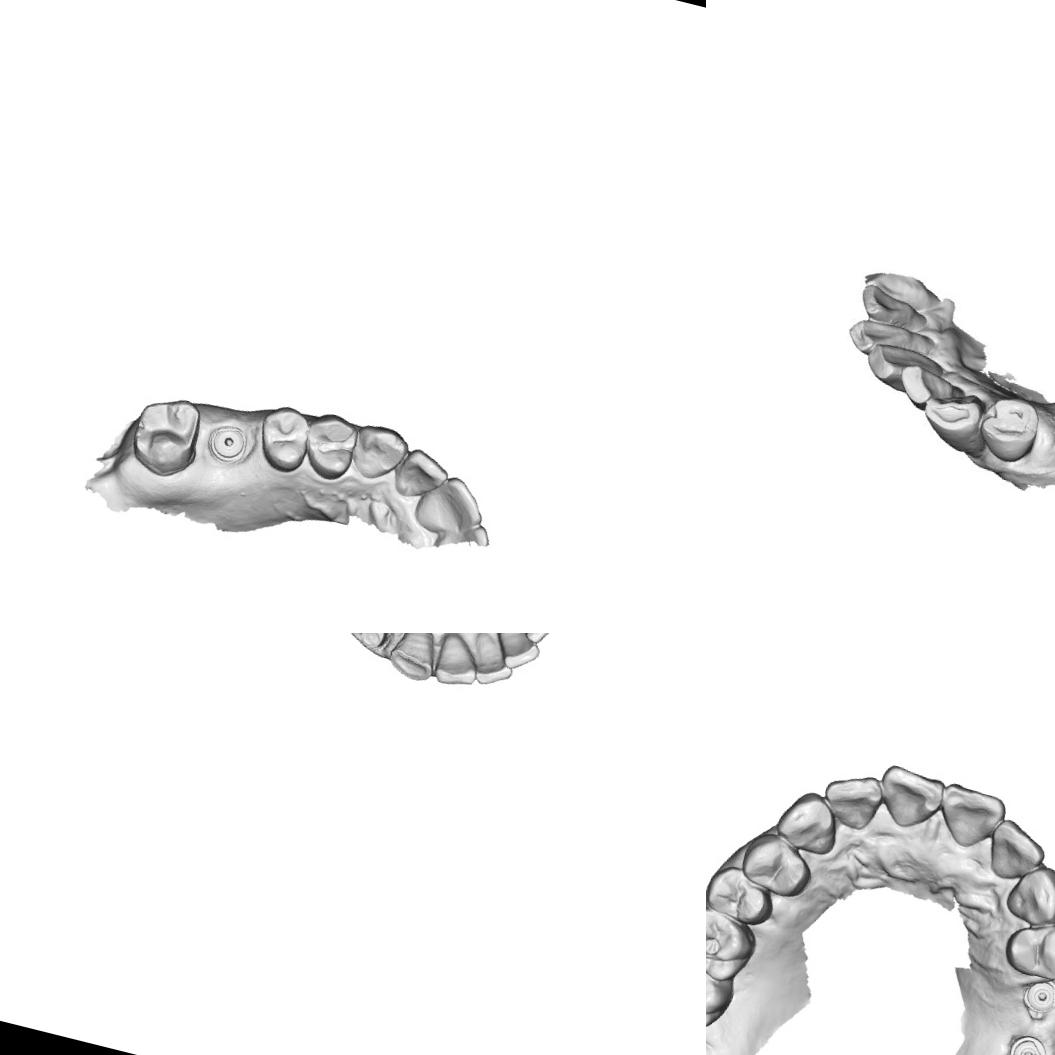canine: (770, 784, 848, 859), (916, 390, 987, 456), (346, 420, 414, 488), (998, 855, 1055, 934), (383, 633, 447, 686)
crown: (350, 633, 398, 654)
implant: (203, 420, 248, 466), (1018, 970, 1055, 1019)
implant_minus: (1001, 1027, 1054, 1055)
incisor: (408, 466, 491, 544), (930, 778, 1009, 856), (870, 761, 948, 838), (982, 814, 1054, 889), (815, 764, 886, 834), (842, 313, 928, 368), (861, 340, 938, 398), (389, 443, 453, 506), (463, 633, 521, 693), (896, 364, 962, 416), (429, 633, 487, 691), (856, 282, 920, 328), (486, 633, 547, 676), (506, 633, 567, 649)
molar: (124, 387, 208, 484), (706, 900, 764, 989), (706, 955, 741, 1036)
premolar: (732, 826, 820, 903), (706, 858, 782, 930), (971, 390, 1041, 467), (250, 399, 316, 476), (297, 407, 362, 484), (996, 913, 1055, 987)
